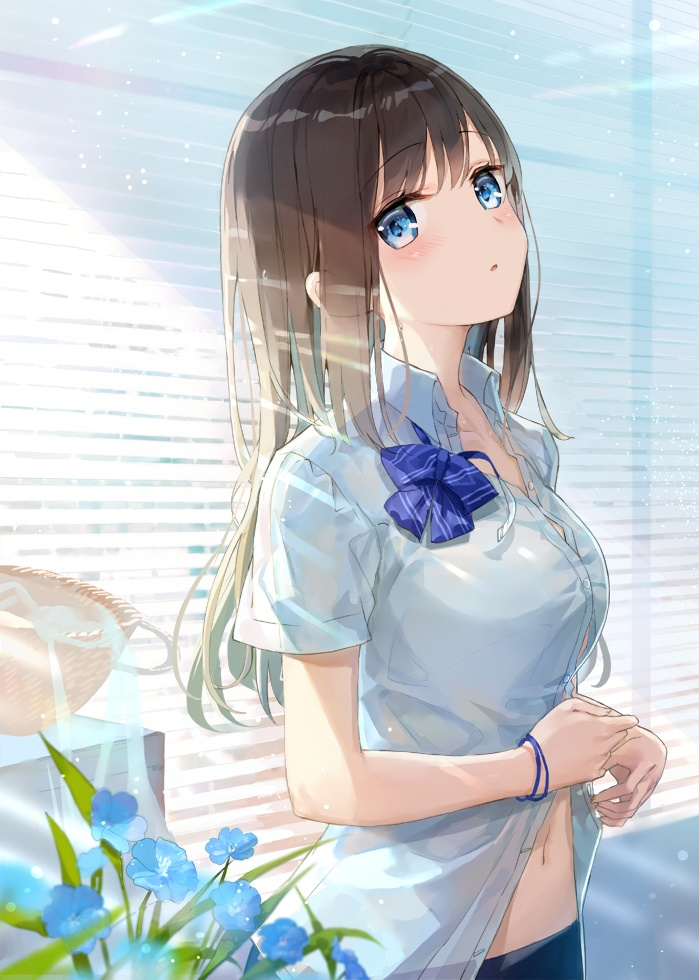纸片人正脸: (227, 38, 531, 341)
